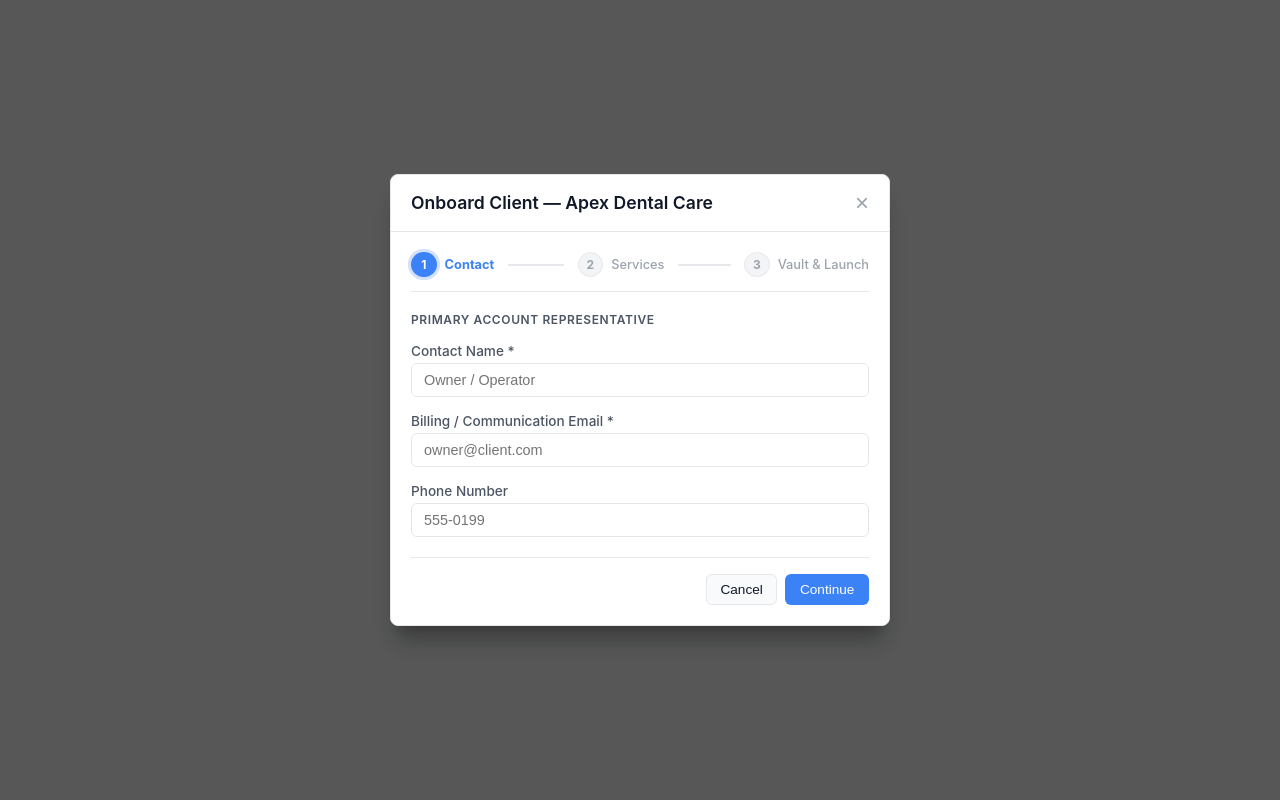
Test: ClientOnboardingModal Component Matrix › Invariant 3: Progresses through the 3 wizard steps via Next/Back buttons
Click the button "Continue". click: (827, 590)
box: [785,574,869,605]
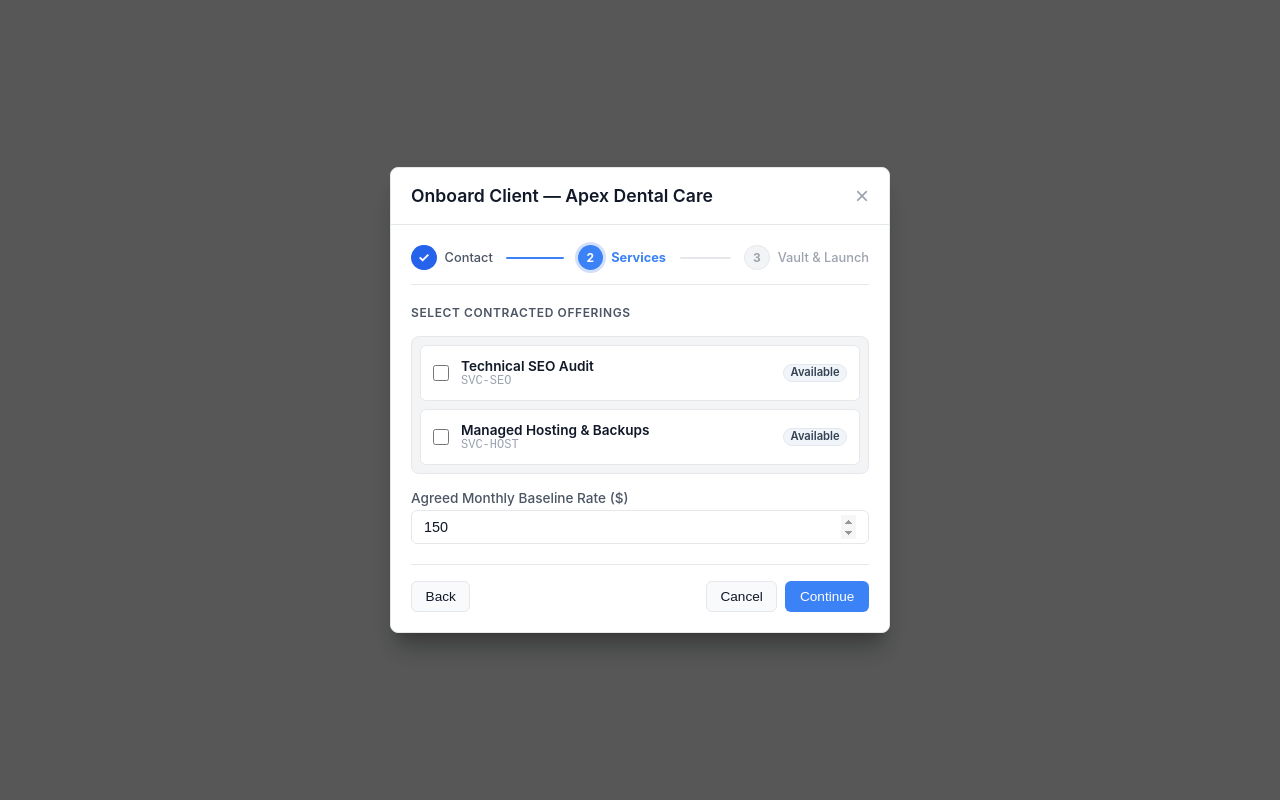
Now the text "Select Contracted Offerings" is shown, box [411,305,631,320]
Now the text "Technical SEO Audit" is shown, box [461,358,594,374]
Click the button "Continue". click: (827, 597)
box: [785,581,869,612]
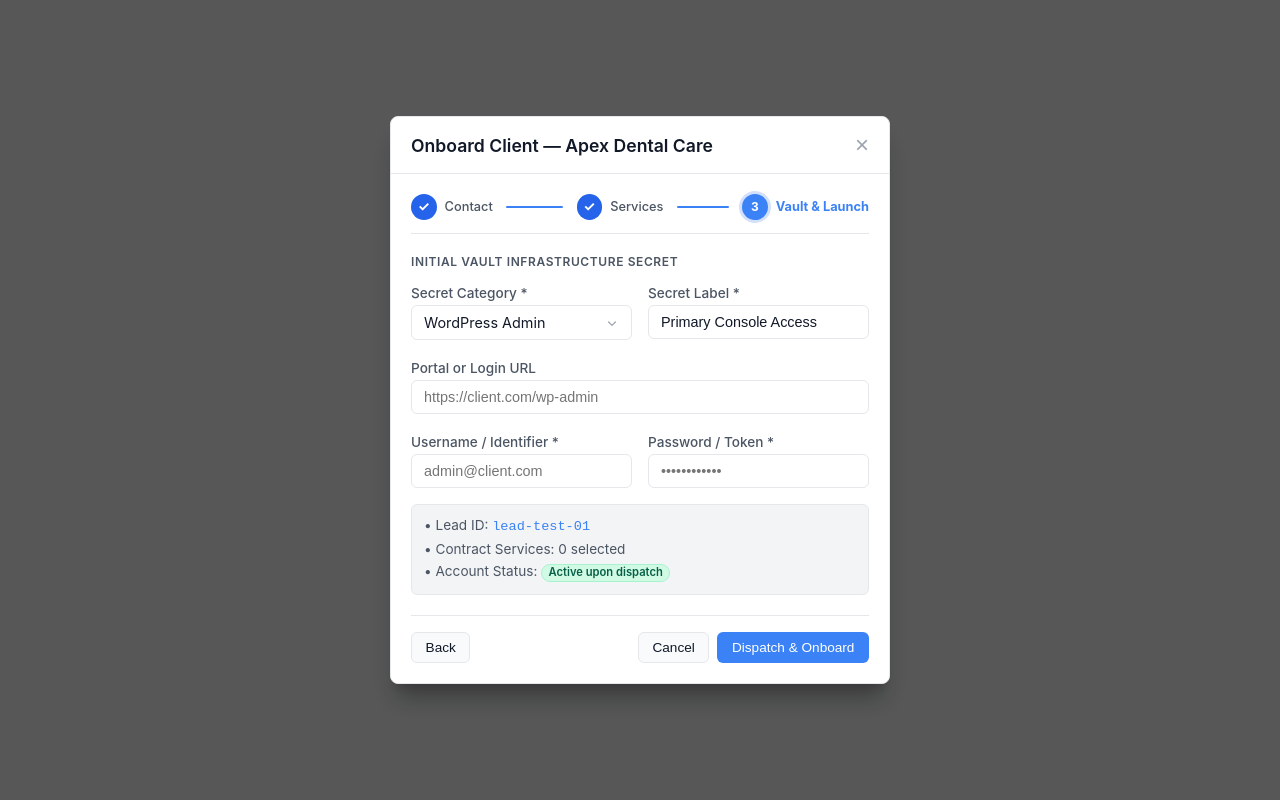
Now the button "Back" is shown
Now the text "Initial Vault Infrastructure Secret" is shown, box [411,254,678,269]
Now the text "Dispatch & Onboard" is shown, box [732,640,854,655]
Click the button "Back". click: (441, 647)
box: [411,632,470,663]
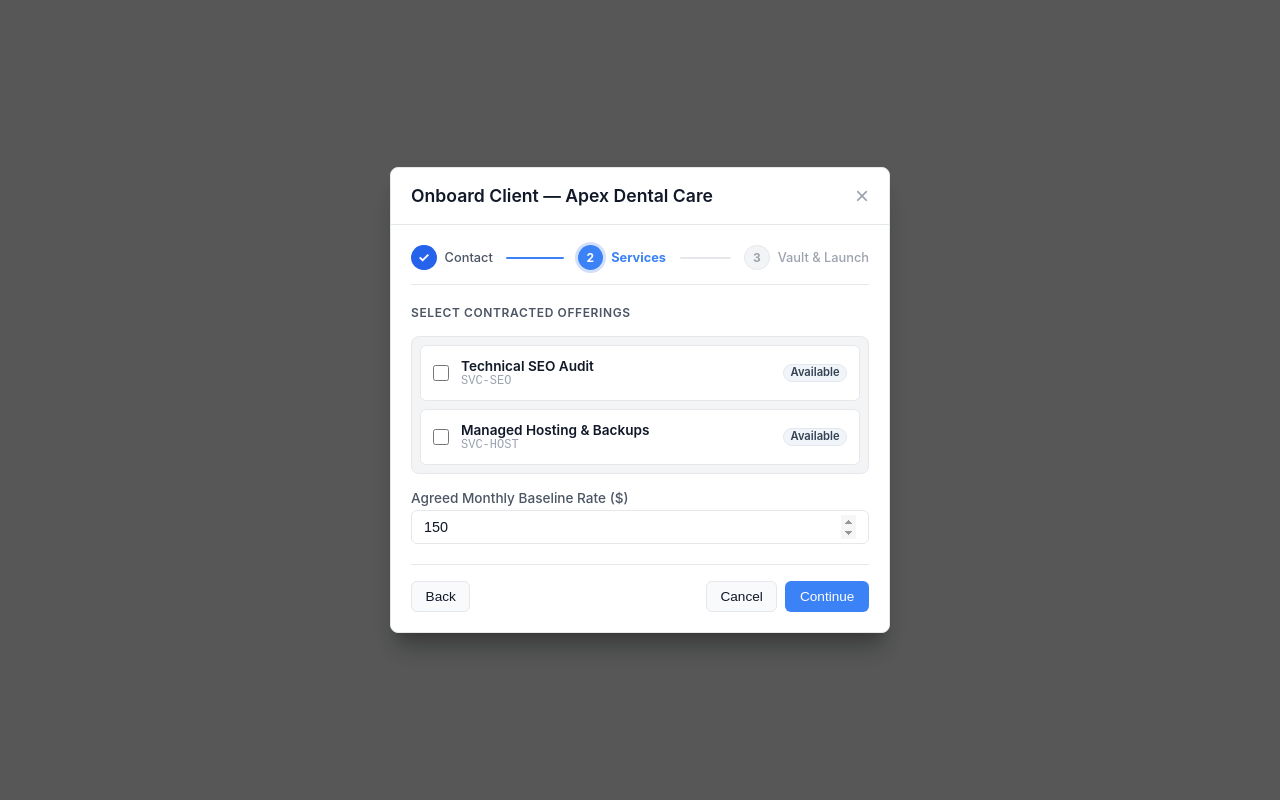
Now the text "Select Contracted Offerings" is shown, box [411,305,631,320]
